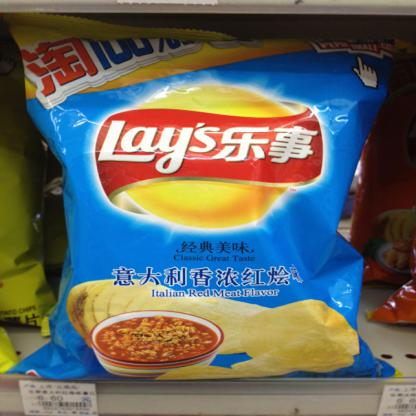potatochip: (4, 6, 410, 383)
